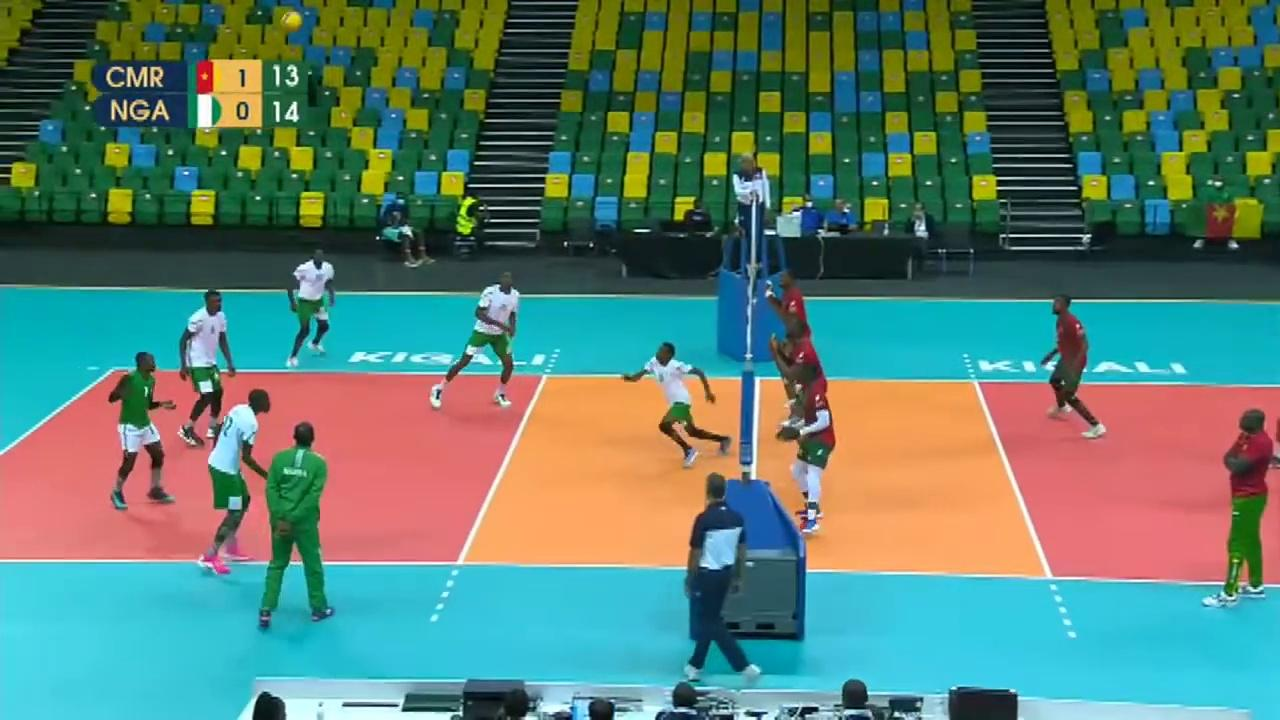player: (621, 347, 730, 466), (106, 348, 183, 510), (203, 392, 270, 575), (435, 271, 518, 408), (1042, 292, 1109, 440), (776, 317, 829, 481), (789, 364, 839, 536), (180, 292, 236, 437), (772, 271, 814, 420), (288, 251, 337, 364)
refree: (680, 482, 760, 681), (728, 149, 774, 270)
